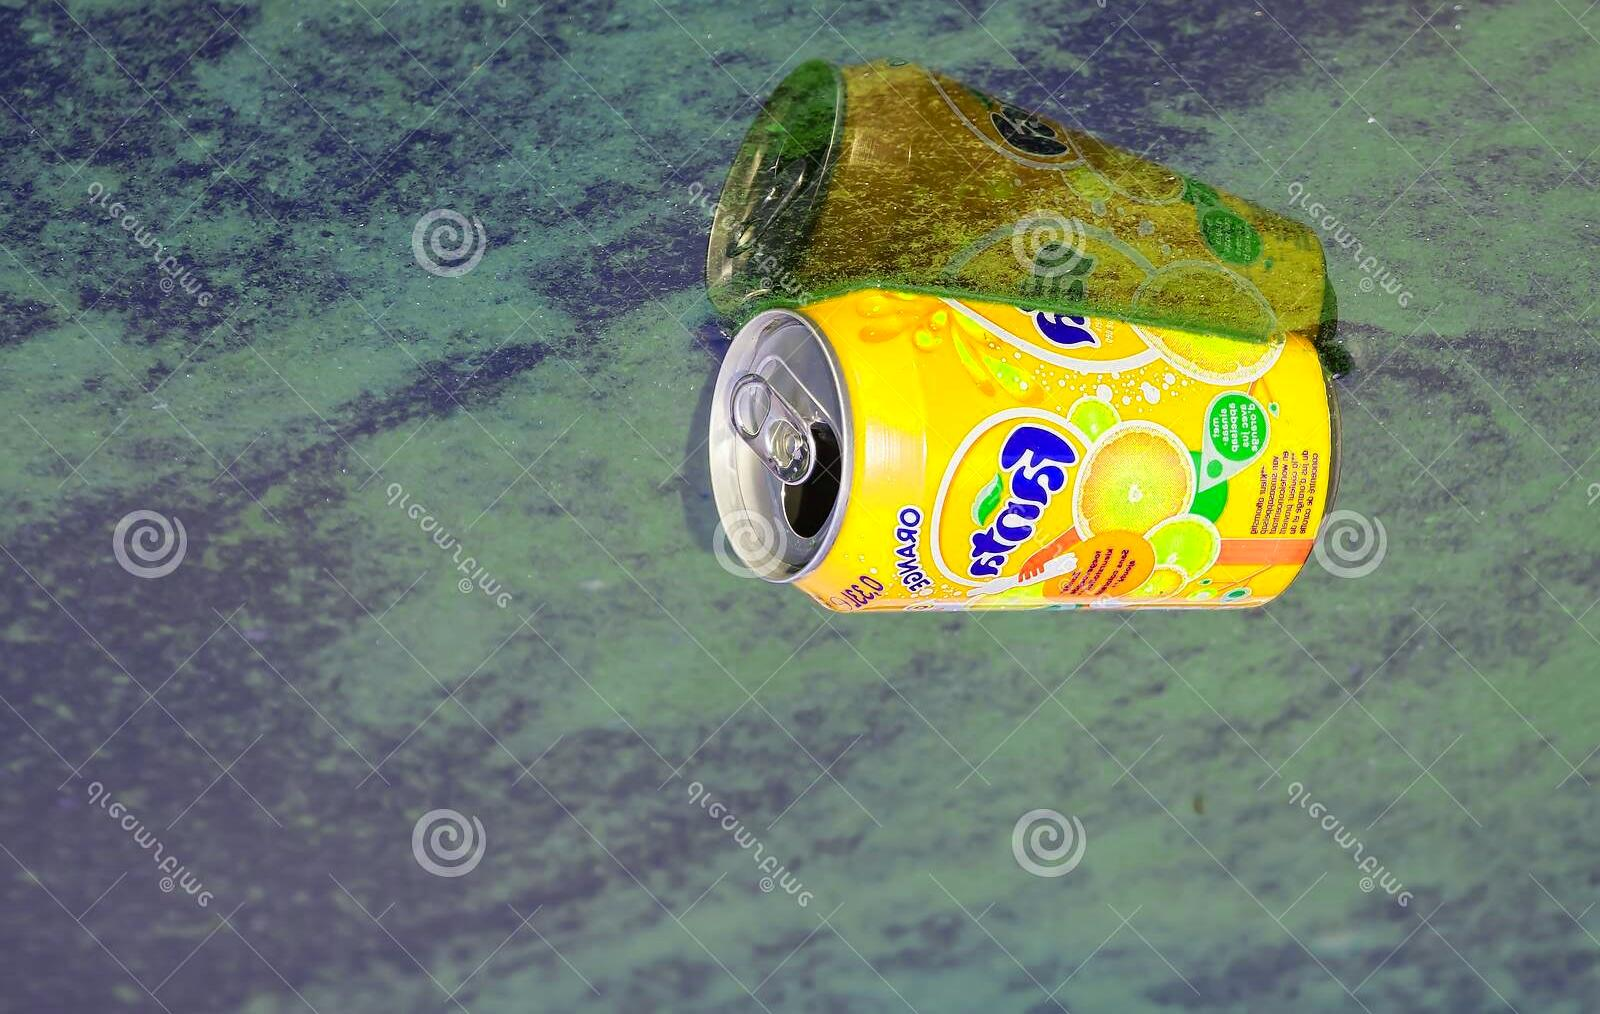Metal: (699, 286, 1350, 620)
